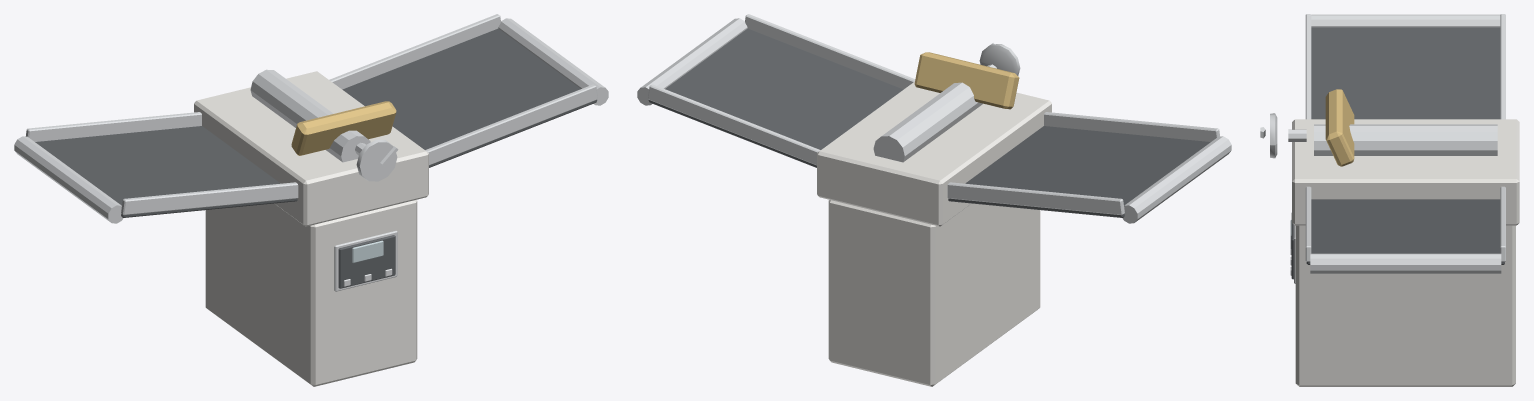
Rendered from restaurant-kitchen-and-dining-dough-sheeter-0a6b2db5__16432.glb.
3 renders of one model, left to right at view 1: azimuth 30°, elevation 25°; view 2: azimuth 150°, elevation 25°; view 3: azimuth 270°, elevation 25°, orthographic.
Visible parts, largest first — view 1: dough-sheeter; view 2: dough-sheeter; view 3: dough-sheeter.
Part boxes in pixels (x1,y1,x2,y2): dough-sheeter: (14,14,608,386); dough-sheeter: (637,14,1231,386); dough-sheeter: (1260,14,1519,386).
Size of the model in its own units: 1.59 by 0.7564 by 0.7065.
